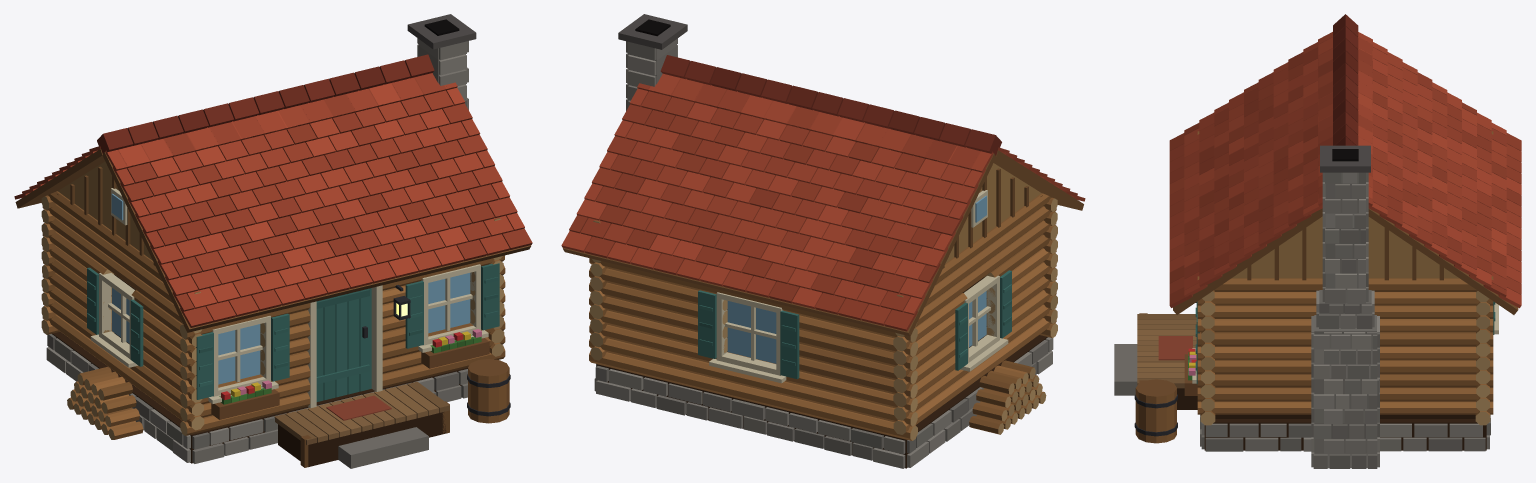
File: casa_granjero.glb
3 renders of one model, left to right at view 1: azimuth 30°, elevation 25°; view 2: azimuth 150°, elevation 25°; view 3: azimuth 270°, elevation 25°, orthographic.
Parts seen in each view (by area): view 1: SM_CasaGranjero; view 2: SM_CasaGranjero; view 3: SM_CasaGranjero.
Boxes of the visible parts, left/top/right/bottom form: SM_CasaGranjero: left=14, top=14, right=532, bottom=468; SM_CasaGranjero: left=561, top=14, right=1085, bottom=468; SM_CasaGranjero: left=1114, top=14, right=1521, bottom=468.
Bounding box in the file's own units: 6.37 × 4.88 × 5.92.
